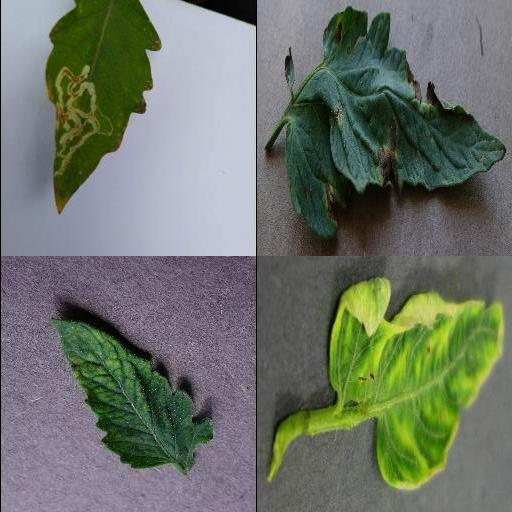Early Blight: (284, 8, 506, 240)
Leaf Miner: (43, 1, 161, 217)
Mosaic Virus: (49, 317, 215, 471)
Yellow Leaf Curl Virus: (327, 276, 505, 490)
